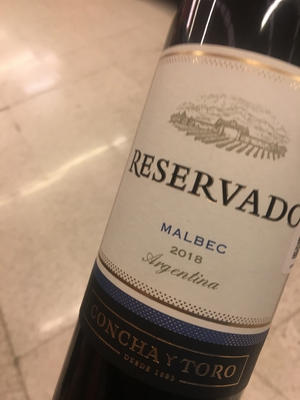reservado malbec: (94, 12, 300, 400)
